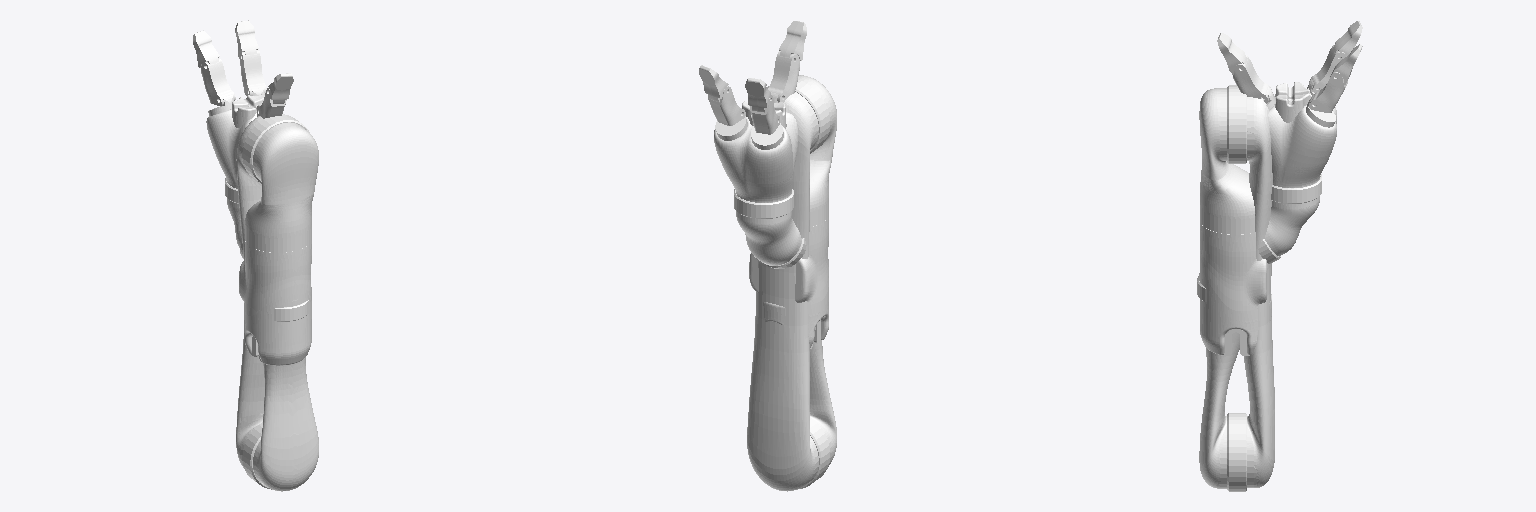
--- What the picture shows (computed from the rendered views, not written in the file) ---
Views: 3 orthographic renders of the robot side by side, from view 1: azimuth 30°, elevation 25°; view 2: azimuth 150°, elevation 25°; view 3: azimuth 270°, elevation 25°.
Model converted_robot with 41 links and 40 joints (12 revolute, 28 fixed), rooted at world, posed all joints at 0 but 2 set to mid-range because 0 is outside their limits (joint1 = 3.14, joint2 = 3.14).
Links seen in each view (by area): view 1: link1, link3, base_link, link2, link6, pinky_proximal, index_proximal, pinky_distal, index_distal, thumb_distal, link4; view 2: link2, link6, base_link, link5, link3, link1, thumb_proximal, index_proximal, thumb_distal, pinky_distal, pinky_proximal, index_distal; view 3: link2, base_link, link6, link1, link3, link5, thumb_proximal, index_proximal, thumb_distal, pinky_proximal, pinky_distal.
Boxes of the visible links, <box> form: link1: <box>245,122,318,252</box>; link3: <box>242,357,318,491</box>; base_link: <box>239,241,311,365</box>; link2: <box>236,114,309,467</box>; link6: <box>206,88,264,203</box>; pinky_proximal: <box>201,58,235,105</box>; index_proximal: <box>239,50,266,95</box>; pinky_distal: <box>193,30,219,67</box>; index_distal: <box>235,20,258,56</box>; thumb_distal: <box>268,73,293,103</box>; link4: <box>274,299,308,321</box>; link2: <box>747,80,829,491</box>; link6: <box>714,92,797,218</box>; base_link: <box>749,217,828,348</box>; link5: <box>736,211,806,268</box>; link3: <box>800,319,836,488</box>; link1: <box>798,75,836,226</box>; thumb_proximal: <box>768,51,799,102</box>; index_proximal: <box>708,86,745,125</box>; thumb_distal: <box>779,21,806,60</box>; pinky_distal: <box>745,78,770,112</box>; pinky_proximal: <box>750,95,779,134</box>; index_distal: <box>699,65,728,102</box>; link2: <box>1227,85,1274,487</box>; base_link: <box>1200,223,1271,355</box>; link6: <box>1266,79,1336,203</box>; link1: <box>1199,88,1254,234</box>; link3: <box>1199,330,1246,491</box>; link5: <box>1258,196,1319,263</box>; thumb_proximal: <box>1233,55,1271,103</box>; index_proximal: <box>1309,65,1347,112</box>; thumb_distal: <box>1217,33,1247,74</box>; pinky_proximal: <box>1309,45,1345,92</box>; pinky_distal: <box>1333,21,1362,56</box>.
Size in the robot's own frame: 0.0927 by 0.1877 by 0.5673 metres.
18 mesh visuals loaded from 10 distinct referenced files (10 binary STL).

The robot description file, URDF, robot "converted_robot":
<?xml version="1.0" ?>
<robot name="converted_robot">
   <link name="world">
      <inertial>
         <origin xyz="0.0 0.0 0.0" rpy="0.0 0.0 0.0"/>
         <mass value="0.0"/>
         <inertia ixx="0.0" iyy="0.0" izz="0.0" ixy="0" ixz="0" iyz="0"/>
      </inertial>
   </link>
   <link name="hand">
      <inertial>
         <origin xyz="0.0 0.0 0.0" rpy="0.0 0.0 0.0"/>
         <mass value="0.000384"/>
         <inertia ixx="6.656e-09" iyy="5.120000000000001e-09" izz="2.56e-09" ixy="0" ixz="0" iyz="0"/>
      </inertial>
   </link>
   <link name="world2hand_fixed">
      <inertial>
         <origin xyz="0.0 0.0 0.0" rpy="0.0 0.0 0.0"/>
         <mass value="0.001"/>
         <inertia ixx="1e-09" iyy="1e-09" izz="1e-09" ixy="0" ixz="0" iyz="0"/>
      </inertial>
   </link>
   <joint type="fixed" name="world2hand_fixed">
      <parent link="world"/>
      <child link="world2hand_fixed"/>
      <origin xyz="0.0 0.0 -0.15" rpy="0.0 0.0 0.0"/>
   </joint>
   <joint type="fixed" name="world2hand_fixed_offset">
      <parent link="world2hand_fixed"/>
      <child link="hand"/>
      <origin xyz="-0.0 -0.0 -0.0" rpy="0.0 0.0 0.0"/>
   </joint>
   <link name="target">
      <inertial>
         <origin xyz="0.0 0.0 0.0" rpy="0.0 0.0 0.0"/>
         <mass value="0.5235987755982989"/>
         <inertia ixx="0.000523598775598299" iyy="0.000523598775598299" izz="0.000523598775598299" ixy="0" ixz="0" iyz="0"/>
      </inertial>
   </link>
   <link name="world2target_fixed">
      <inertial>
         <origin xyz="0.0 0.0 0.0" rpy="0.0 0.0 0.0"/>
         <mass value="0.001"/>
         <inertia ixx="1e-09" iyy="1e-09" izz="1e-09" ixy="0" ixz="0" iyz="0"/>
      </inertial>
   </link>
   <joint type="fixed" name="world2target_fixed">
      <parent link="world"/>
      <child link="world2target_fixed"/>
      <origin xyz="0.0 0.0 -0.15" rpy="0.0 0.0 0.0"/>
   </joint>
   <joint type="fixed" name="world2target_fixed_offset">
      <parent link="world2target_fixed"/>
      <child link="target"/>
      <origin xyz="-0.0 -0.0 -0.0" rpy="0.0 0.0 0.0"/>
   </joint>
   <link name="target_orientation">
      <inertial>
         <origin xyz="0.0 0.0 0.0" rpy="0.0 0.0 0.0"/>
         <mass value="0.384"/>
         <inertia ixx="0.0006656" iyy="0.000512" izz="0.000256" ixy="0" ixz="0" iyz="0"/>
      </inertial>
   </link>
   <link name="world2target_orientation_fixed">
      <inertial>
         <origin xyz="0.0 0.0 0.0" rpy="0.0 0.0 0.0"/>
         <mass value="0.001"/>
         <inertia ixx="1e-09" iyy="1e-09" izz="1e-09" ixy="0" ixz="0" iyz="0"/>
      </inertial>
   </link>
   <joint type="fixed" name="world2target_orientation_fixed">
      <parent link="world"/>
      <child link="world2target_orientation_fixed"/>
      <origin xyz="0.0 0.0 -0.15" rpy="0.0 0.0 0.0"/>
   </joint>
   <joint type="fixed" name="world2target_orientation_fixed_offset">
      <parent link="world2target_orientation_fixed"/>
      <child link="target_orientation"/>
      <origin xyz="-0.0 -0.0 -0.0" rpy="0.0 0.0 0.0"/>
   </joint>
   <link name="path_planner">
      <inertial>
         <origin xyz="0.0 0.0 0.0" rpy="0.0 0.0 0.0"/>
         <mass value="0.5235987755982989"/>
         <inertia ixx="0.000523598775598299" iyy="0.000523598775598299" izz="0.000523598775598299" ixy="0" ixz="0" iyz="0"/>
      </inertial>
   </link>
   <link name="world2path_planner_fixed">
      <inertial>
         <origin xyz="0.0 0.0 0.0" rpy="0.0 0.0 0.0"/>
         <mass value="0.001"/>
         <inertia ixx="1e-09" iyy="1e-09" izz="1e-09" ixy="0" ixz="0" iyz="0"/>
      </inertial>
   </link>
   <joint type="fixed" name="world2path_planner_fixed">
      <parent link="world"/>
      <child link="world2path_planner_fixed"/>
      <origin xyz="0.0 0.0 -0.15" rpy="0.0 0.0 0.0"/>
   </joint>
   <joint type="fixed" name="world2path_planner_fixed_offset">
      <parent link="world2path_planner_fixed"/>
      <child link="path_planner"/>
      <origin xyz="-0.0 -0.0 -0.0" rpy="0.0 0.0 0.0"/>
   </joint>
   <link name="path_planner_orientation">
      <inertial>
         <origin xyz="0.0 0.0 0.0" rpy="0.0 0.0 0.0"/>
         <mass value="0.384"/>
         <inertia ixx="0.0006656" iyy="0.000512" izz="0.000256" ixy="0" ixz="0" iyz="0"/>
      </inertial>
   </link>
   <link name="world2path_planner_orientation_fixed">
      <inertial>
         <origin xyz="0.0 0.0 0.0" rpy="0.0 0.0 0.0"/>
         <mass value="0.001"/>
         <inertia ixx="1e-09" iyy="1e-09" izz="1e-09" ixy="0" ixz="0" iyz="0"/>
      </inertial>
   </link>
   <joint type="fixed" name="world2path_planner_orientation_fixed">
      <parent link="world"/>
      <child link="world2path_planner_orientation_fixed"/>
      <origin xyz="0.0 0.0 -0.15" rpy="0.0 0.0 0.0"/>
   </joint>
   <joint type="fixed" name="world2path_planner_orientation_fixed_offset">
      <parent link="world2path_planner_orientation_fixed"/>
      <child link="path_planner_orientation"/>
      <origin xyz="-0.0 -0.0 -0.0" rpy="0.0 0.0 0.0"/>
   </joint>
   <link name="obstacle">
      <inertial>
         <origin xyz="0.0 0.0 0.0" rpy="0.0 0.0 0.0"/>
         <mass value="0.5235987755982989"/>
         <inertia ixx="0.000523598775598299" iyy="0.000523598775598299" izz="0.000523598775598299" ixy="0" ixz="0" iyz="0"/>
      </inertial>
   </link>
   <link name="world2obstacle_fixed">
      <inertial>
         <origin xyz="0.0 0.0 0.0" rpy="0.0 0.0 0.0"/>
         <mass value="0.001"/>
         <inertia ixx="1e-09" iyy="1e-09" izz="1e-09" ixy="0" ixz="0" iyz="0"/>
      </inertial>
   </link>
   <joint type="fixed" name="world2obstacle_fixed">
      <parent link="world"/>
      <child link="world2obstacle_fixed"/>
      <origin xyz="0.0 0.0 -0.15" rpy="0.0 0.0 0.0"/>
   </joint>
   <joint type="fixed" name="world2obstacle_fixed_offset">
      <parent link="world2obstacle_fixed"/>
      <child link="obstacle"/>
      <origin xyz="-0.0 -0.0 -0.0" rpy="0.0 0.0 0.0"/>
   </joint>
   <link name="base_link">
      <inertial>
         <origin xyz="0.0 0.0 0.1255" rpy="0.0 0.0 0.0"/>
         <mass value="1.226"/>
         <inertia ixx="0.25" iyy="0.25" izz="0.25" ixy="0" ixz="0" iyz="0"/>
      </inertial>
      <visual name="link0">
         <origin xyz="9.133796677977069e-08 -0.0006027466695449019 0.08201283482199326" rpy="0.0007096602867197044 0.02054249345304937 1.605570611957459"/>
         <geometry>
            <mesh filename="converted_link0.stl"/>
         </geometry>
         <material name="white"/>
      </visual>
   </link>
   <link name="world2base_link_fixed">
      <inertial>
         <origin xyz="0.0 0.0 0.0" rpy="0.0 0.0 0.0"/>
         <mass value="0.001"/>
         <inertia ixx="1e-09" iyy="1e-09" izz="1e-09" ixy="0" ixz="0" iyz="0"/>
      </inertial>
   </link>
   <joint type="fixed" name="world2base_link_fixed">
      <parent link="world"/>
      <child link="world2base_link_fixed"/>
      <origin xyz="0.0 0.0 0.0" rpy="0.0 0.0 0.0"/>
   </joint>
   <joint type="fixed" name="world2base_link_fixed_offset">
      <parent link="world2base_link_fixed"/>
      <child link="base_link"/>
      <origin xyz="-0.0 -0.0 -0.0" rpy="0.0 0.0 0.0"/>
   </joint>
   <link name="link1">
      <inertial>
         <origin xyz="-4.2e-05 -0.001285 0.112784" rpy="0.0 0.0 0.0"/>
         <mass value="0.754"/>
         <inertia ixx="0.3" iyy="0.3" izz="0.3" ixy="0" ixz="0" iyz="0"/>
      </inertial>
      <visual name="link1">
         <origin xyz="-0.0001063410689003693 -0.010651450488938705 0.06674279663789036" rpy="3.139976019070814 -0.17855387401249323 1.5710248247573295"/>
         <geometry>
            <mesh filename="converted_link1.stl"/>
         </geometry>
         <material name="white"/>
      </visual>
   </link>
   <link name="joint0">
      <inertial>
         <origin xyz="0.0 0.0 0.0" rpy="0.0 0.0 0.0"/>
         <mass value="0.001"/>
         <inertia ixx="1e-09" iyy="1e-09" izz="1e-09" ixy="0" ixz="0" iyz="0"/>
      </inertial>
   </link>
   <joint type="revolute" name="joint0">
      <parent link="base_link"/>
      <child link="joint0"/>
      <origin xyz="0.0 0.0 0.157" rpy="0.0 0.0 0.0"/>
      <axis xyz="0.0 0.0 -1.0"/>
      <limit lower="0.0" upper="0.0" effort="100" velocity="100"/>
   </joint>
   <joint type="fixed" name="joint0_offset">
      <parent link="joint0"/>
      <child link="link1"/>
      <origin xyz="-0.0 -0.0 -0.0" rpy="0.0 0.0 0.0"/>
   </joint>
   <link name="link2">
      <inertial>
         <origin xyz="1.4e-05 0.009353 0.329006" rpy="0.0 0.0 0.0"/>
         <mass value="1.01"/>
         <inertia ixx="0.3" iyy="0.3" izz="0.3" ixy="0" ixz="0" iyz="0"/>
      </inertial>
      <visual name="link2">
         <origin xyz="0.0003269774984646708 0.020312319320206877 0.20497573696235669" rpy="-0.0015883560313731948 -0.0007988185518152946 -1.570806913124902"/>
         <geometry>
            <mesh filename="converted_link2.stl"/>
         </geometry>
         <material name="white"/>
      </visual>
      <visual name="ring_big">
         <origin xyz="-1.7123715495059167e-11 -4.805105449413863e-10 2.7067964741577194e-10" rpy="-1.5707963267948966 -0.0007963267948964958 -1.5707963267948966"/>
         <geometry>
            <mesh filename="converted_ring_big.stl"/>
         </geometry>
         <material name="white"/>
      </visual>
   </link>
   <link name="joint1">
      <inertial>
         <origin xyz="0.0 0.0 0.0" rpy="0.0 0.0 0.0"/>
         <mass value="0.001"/>
         <inertia ixx="1e-09" iyy="1e-09" izz="1e-09" ixy="0" ixz="0" iyz="0"/>
      </inertial>
   </link>
   <joint type="revolute" name="joint1">
      <parent link="link1"/>
      <child link="joint1"/>
      <origin xyz="0.0 0.0016 0.1186" rpy="0.0 0.0 0.0"/>
      <axis xyz="0.0 -1.0 0.0"/>
      <limit lower="0.872665" upper="5.41052" effort="100" velocity="100"/>
   </joint>
   <joint type="fixed" name="joint1_offset">
      <parent link="joint1"/>
      <child link="link2"/>
      <origin xyz="-0.0 -0.0 -0.0" rpy="0.0 0.0 0.0"/>
   </joint>
   <link name="link3">
      <inertial>
         <origin xyz="-3.9e-05 -0.018069 0.15327" rpy="0.0 0.0 0.0"/>
         <mass value="0.559"/>
         <inertia ixx="0.275" iyy="0.275" izz="0.275" ixy="0" ixz="0" iyz="0"/>
      </inertial>
      <visual name="link3">
         <origin xyz="-2.6840326337427422e-05 -0.017434501108884882 0.08293546007228784" rpy="-3.1415838661462416 0.041136356620258274 1.5693277577538458"/>
         <geometry>
            <mesh filename="converted_link3.stl"/>
         </geometry>
         <material name="white"/>
      </visual>
      <visual name="ring_big">
         <origin xyz="-1.7123715495059167e-11 -4.805105449413863e-10 2.7067964741577194e-10" rpy="-1.5707963267948966 -0.0007963267948964958 -1.5707963267948966"/>
         <geometry>
            <mesh filename="converted_ring_big.stl"/>
         </geometry>
         <material name="white"/>
      </visual>
   </link>
   <link name="joint2">
      <inertial>
         <origin xyz="0.0 0.0 0.0" rpy="0.0 0.0 0.0"/>
         <mass value="0.001"/>
         <inertia ixx="1e-09" iyy="1e-09" izz="1e-09" ixy="0" ixz="0" iyz="0"/>
      </inertial>
   </link>
   <joint type="revolute" name="joint2">
      <parent link="link2"/>
      <child link="joint2"/>
      <origin xyz="0.0 0.0 0.41" rpy="0.0 0.0 0.0"/>
      <axis xyz="0.0 1.0 0.0"/>
      <limit lower="0.331613" upper="5.95157" effort="100" velocity="100"/>
   </joint>
   <joint type="fixed" name="joint2_offset">
      <parent link="joint2"/>
      <child link="link3"/>
      <origin xyz="-0.0 -0.0 -0.0" rpy="0.0 0.0 0.0"/>
   </joint>
   <link name="link4">
      <inertial>
         <origin xyz="0.0 0.032302 0.059705" rpy="0.0 0.0 0.0"/>
         <mass value="0.417"/>
         <inertia ixx="0.175" iyy="0.175" izz="0.175" ixy="0" ixz="0" iyz="0"/>
      </inertial>
      <visual name="link4_5">
         <origin xyz="-1.166678302330102e-07 0.010098863452913599 0.036944562299561445" rpy="3.1415415682531878 -0.5252014023119236 -1.5707536986420412"/>
         <geometry>
            <mesh filename="converted_link4_5.stl"/>
         </geometry>
         <material name="white"/>
      </visual>
      <visual name="ring_small">
         <origin xyz="-4.196180586224414e-12 5.056845814393021e-12 -1.565377461032025e-12" rpy="1.5707963267948966 -1.5707963267948966 0.0"/>
         <geometry>
            <mesh filename="converted_ring_small.stl"/>
         </geometry>
         <material name="white"/>
      </visual>
   </link>
   <link name="joint3">
      <inertial>
         <origin xyz="0.0 0.0 0.0" rpy="0.0 0.0 0.0"/>
         <mass value="0.001"/>
         <inertia ixx="1e-09" iyy="1e-09" izz="1e-09" ixy="0" ixz="0" iyz="0"/>
      </inertial>
   </link>
   <joint type="revolute" name="joint3">
      <parent link="link3"/>
      <child link="joint3"/>
      <origin xyz="0.0 -0.0115 0.2072" rpy="0.0 0.0 0.0"/>
      <axis xyz="0.0 0.0 -1.0"/>
      <limit lower="0.0" upper="0.0" effort="100" velocity="100"/>
   </joint>
   <joint type="fixed" name="joint3_offset">
      <parent link="joint3"/>
      <child link="link4"/>
      <origin xyz="-0.0 -0.0 -0.0" rpy="0.0 0.0 0.0"/>
   </joint>
   <link name="link5">
      <inertial>
         <origin xyz="-0.0 0.035545 0.057833" rpy="0.0 0.0 0.0"/>
         <mass value="0.417"/>
         <inertia ixx="0.175" iyy="0.175" izz="0.175" ixy="0" ixz="0" iyz="0"/>
      </inertial>
      <visual name="link4_5">
         <origin xyz="-5.8748738792033485e-05 0.026988838765509126 0.027175114668303135" rpy="3.140664724414925 0.5235916505271576 1.5717584460605178"/>
         <geometry>
            <mesh filename="converted_link4_5.stl"/>
         </geometry>
         <material name="white"/>
      </visual>
      <visual name="ring_small">
         <origin xyz="-4.196180586224414e-12 1.1732698175821173e-12 -5.161931239488e-12" rpy="0.0 -0.5236963267948966 1.5707963267948966"/>
         <geometry>
            <mesh filename="converted_ring_small.stl"/>
         </geometry>
         <material name="white"/>
      </visual>
   </link>
   <link name="joint4">
      <inertial>
         <origin xyz="0.0 0.0 0.0" rpy="0.0 0.0 0.0"/>
         <mass value="0.001"/>
         <inertia ixx="1e-09" iyy="1e-09" izz="1e-09" ixy="0" ixz="0" iyz="0"/>
      </inertial>
   </link>
   <joint type="revolute" name="joint4">
      <parent link="link4"/>
      <child link="joint4"/>
      <origin xyz="0.0 0.037 0.0641" rpy="0.0 0.0 0.0"/>
      <axis xyz="0.0 -0.8654262854811262 -0.5010362705417047"/>
      <limit lower="0.0" upper="0.0" effort="100" velocity="100"/>
   </joint>
   <joint type="fixed" name="joint4_offset">
      <parent link="joint4"/>
      <child link="link5"/>
      <origin xyz="-0.0 -0.0 -0.0" rpy="0.0 0.0 0.0"/>
   </joint>
   <link name="link6">
      <inertial>
         <origin xyz="3e-05 -0.00684 0.08222" rpy="0.0 0.0 0.0"/>
         <mass value="0.727"/>
         <inertia ixx="0.025" iyy="0.025" izz="0.025" ixy="0" ixz="0" iyz="0"/>
      </inertial>
      <visual name="hand_3finger">
         <origin xyz="2.726445927349454e-05 0.004240514501973636 0.06093834663563374" rpy="3.041322787996892 0.003177578468926523 0.006403760104636946"/>
         <geometry>
            <mesh filename="converted_hand_3finger.stl"/>
         </geometry>
         <material name="white"/>
      </visual>
      <visual name="ring_small">
         <origin xyz="-4.196180586224414e-12 5.056845814393021e-12 -1.565377461032025e-12" rpy="1.5707963267948966 -1.5707963267948966 0.0"/>
         <geometry>
            <mesh filename="converted_ring_small.stl"/>
         </geometry>
         <material name="white"/>
      </visual>
   </link>
   <link name="joint5">
      <inertial>
         <origin xyz="0.0 0.0 0.0" rpy="0.0 0.0 0.0"/>
         <mass value="0.001"/>
         <inertia ixx="1e-09" iyy="1e-09" izz="1e-09" ixy="0" ixz="0" iyz="0"/>
      </inertial>
   </link>
   <joint type="revolute" name="joint5">
      <parent link="link5"/>
      <child link="joint5"/>
      <origin xyz="0.0 0.037 0.0641" rpy="0.0 0.0 0.0"/>
      <axis xyz="0.0 0.0 -1.0"/>
      <limit lower="0.0" upper="0.0" effort="100" velocity="100"/>
   </joint>
   <joint type="fixed" name="joint5_offset">
      <parent link="joint5"/>
      <child link="link6"/>
      <origin xyz="-0.0 -0.0 -0.0" rpy="0.0 0.0 0.0"/>
   </joint>
   <link name="EE">
      <inertial>
         <origin xyz="0.0 0.0 0.12" rpy="0.0 0.0 0.0"/>
         <mass value="0.0"/>
         <inertia ixx="0.0" iyy="0.0" izz="0.0" ixy="0" ixz="0" iyz="0"/>
      </inertial>
   </link>
   <link name="link62EE_fixed">
      <inertial>
         <origin xyz="0.0 0.0 0.0" rpy="0.0 0.0 0.0"/>
         <mass value="0.001"/>
         <inertia ixx="1e-09" iyy="1e-09" izz="1e-09" ixy="0" ixz="0" iyz="0"/>
      </inertial>
   </link>
   <joint type="fixed" name="link62EE_fixed">
      <parent link="link6"/>
      <child link="link62EE_fixed"/>
      <origin xyz="0.0 0.0 0.12" rpy="0.0 0.0 0.0"/>
   </joint>
   <joint type="fixed" name="link62EE_fixed_offset">
      <parent link="link62EE_fixed"/>
      <child link="EE"/>
      <origin xyz="-0.0 -0.0 -0.0" rpy="0.0 0.0 0.0"/>
   </joint>
   <link name="thumb_proximal">
      <inertial>
         <origin xyz="2.318676237413274e-06 -0.007901926331040997 0.020505126451577305" rpy="0.00013966961628275598 -0.00202429827569528 1.571786439865887"/>
         <mass value="0.025288554890960095"/>
         <inertia ixx="7.007347968068987e-06" iyy="6.9623425627500285e-06" izz="2.020629680612321e-06" ixy="0" ixz="0" iyz="0"/>
      </inertial>
      <visual name="finger_proximal">
         <origin xyz="2.318676237413274e-06 -0.007901926331040997 0.020505126451577305" rpy="0.00013966961628264496 -0.00202429827569528 1.5717864398658867"/>
         <geometry>
            <mesh filename="converted_finger_proximal.stl"/>
         </geometry>
         <material name="white"/>
      </visual>
   </link>
   <link name="joint_thumb">
      <inertial>
         <origin xyz="0.0 0.0 0.0" rpy="0.0 0.0 0.0"/>
         <mass value="0.001"/>
         <inertia ixx="1e-09" iyy="1e-09" izz="1e-09" ixy="0" ixz="0" iyz="0"/>
      </inertial>
   </link>
   <joint type="revolute" name="joint_thumb">
      <parent link="link6"/>
      <child link="joint_thumb"/>
      <origin xyz="0.002786 -0.03126 0.114668" rpy="0.5235989998300619 0.10674433886389845 -0.18352136513574274"/>
      <axis xyz="1.0 0.0 0.0"/>
      <limit lower="-0.2" upper="1.1" effort="100" velocity="100"/>
   </joint>
   <joint type="fixed" name="joint_thumb_offset">
      <parent link="joint_thumb"/>
      <child link="thumb_proximal"/>
      <origin xyz="-0.0 -0.0 -0.0" rpy="0.0 0.0 0.0"/>
   </joint>
   <link name="thumb_distal">
      <inertial>
         <origin xyz="1.2570621793692216e-06 -0.004534809576593107 0.01282817464890544" rpy="0.00010079309321564534 -0.0033680833931348797 1.5708043537043213"/>
         <mass value="0.013000795428535637"/>
         <inertia ixx="2.64897552626235e-06" iyy="2.4924103071714444e-06" izz="6.504963550225124e-07" ixy="0" ixz="0" iyz="0"/>
      </inertial>
      <visual name="finger_distal">
         <origin xyz="1.2570621793692216e-06 -0.004534809576593107 0.01282817464890544" rpy="0.00010079309321564534 -0.0033680833931348797 1.5708043537043208"/>
         <geometry>
            <mesh filename="converted_finger_distal.stl"/>
         </geometry>
         <material name="white"/>
      </visual>
   </link>
   <link name="joint_thumb_distal">
      <inertial>
         <origin xyz="0.0 0.0 0.0" rpy="0.0 0.0 0.0"/>
         <mass value="0.001"/>
         <inertia ixx="1e-09" iyy="1e-09" izz="1e-09" ixy="0" ixz="0" iyz="0"/>
      </inertial>
   </link>
   <joint type="revolute" name="joint_thumb_distal">
      <parent link="thumb_proximal"/>
      <child link="joint_thumb_distal"/>
      <origin xyz="0.0 -0.003 0.044" rpy="0.0 0.0 0.0"/>
      <axis xyz="-1.0 0.0 0.0"/>
      <limit lower="-0.4" upper="0.4" effort="100" velocity="100"/>
   </joint>
   <joint type="fixed" name="joint_thumb_distal_offset">
      <parent link="joint_thumb_distal"/>
      <child link="thumb_distal"/>
      <origin xyz="-0.0 -0.0 -0.0" rpy="0.0 0.0 0.0"/>
   </joint>
   <link name="index_proximal">
      <inertial>
         <origin xyz="-4.087219225441977e-06 0.007901942862374587 0.02050511980474731" rpy="0.0008396708733484637 -0.002024990858662701 -1.5714002845676145"/>
         <mass value="0.025288554890960095"/>
         <inertia ixx="7.007347968068987e-06" iyy="6.9623425627500285e-06" izz="2.020629680612321e-06" ixy="0" ixz="0" iyz="0"/>
      </inertial>
      <visual name="finger_proximal">
         <origin xyz="-4.087219225441977e-06 0.007901942862374587 0.02050511980474731" rpy="0.0008396708733484637 -0.002024990858662701 -1.5714002845676145"/>
         <geometry>
            <mesh filename="converted_finger_proximal.stl"/>
         </geometry>
         <material name="white"/>
      </visual>
   </link>
   <link name="joint_index">
      <inertial>
         <origin xyz="0.0 0.0 0.0" rpy="0.0 0.0 0.0"/>
         <mass value="0.001"/>
         <inertia ixx="1e-09" iyy="1e-09" izz="1e-09" ixy="0" ixz="0" iyz="0"/>
      </inertial>
   </link>
   <joint type="revolute" name="joint_index">
      <parent link="link6"/>
      <child link="joint_index"/>
      <origin xyz="0.022256 0.027073 0.114668" rpy="-0.5235990073775261 9.837689995961796e-09 -0.1846907358693892"/>
      <axis xyz="-1.0 0.0 0.0"/>
      <limit lower="-0.2" upper="1.1" effort="100" velocity="100"/>
   </joint>
   <joint type="fixed" name="joint_index_offset">
      <parent link="joint_index"/>
      <child link="index_proximal"/>
      <origin xyz="-0.0 -0.0 -0.0" rpy="0.0 0.0 0.0"/>
   </joint>
   <link name="index_distal">
      <inertial>
         <origin xyz="-3.0143948227316624e-06 0.004534820128862452 0.012828170626058646" rpy="0.0008007972285901666 -0.003368088186565865 -1.572383311145968"/>
         <mass value="0.013000795428535637"/>
         <inertia ixx="2.64897552626235e-06" iyy="2.4924103071714444e-06" izz="6.504963550225124e-07" ixy="0" ixz="0" iyz="0"/>
      </inertial>
      <visual name="finger_distal">
         <origin xyz="-3.0143948227316624e-06 0.004534820128862452 0.012828170626058646" rpy="0.0008007972285906106 -0.003368088186566087 -1.5723833111459689"/>
         <geometry>
            <mesh filename="converted_finger_distal.stl"/>
         </geometry>
         <material name="white"/>
      </visual>
   </link>
   <link name="joint_index_distal">
      <inertial>
         <origin xyz="0.0 0.0 0.0" rpy="0.0 0.0 0.0"/>
         <mass value="0.001"/>
         <inertia ixx="1e-09" iyy="1e-09" izz="1e-09" ixy="0" ixz="0" iyz="0"/>
      </inertial>
   </link>
   <joint type="revolute" name="joint_index_distal">
      <parent link="index_proximal"/>
      <child link="joint_index_distal"/>
      <origin xyz="0.0 0.003 0.044" rpy="0.0 0.0 0.0"/>
      <axis xyz="1.0 0.0 0.0"/>
      <limit lower="-0.4" upper="0.4" effort="100" velocity="100"/>
   </joint>
   <joint type="fixed" name="joint_index_distal_offset">
      <parent link="joint_index_distal"/>
      <child link="index_distal"/>
      <origin xyz="-0.0 -0.0 -0.0" rpy="0.0 0.0 0.0"/>
   </joint>
   <link name="pinky_proximal">
      <inertial>
         <origin xyz="-4.087219225441977e-06 0.007901942862374587 0.02050511980474731" rpy="0.0008396708733484637 -0.002024990858662701 -1.5714002845676145"/>
         <mass value="0.025288554890960095"/>
         <inertia ixx="7.007347968068987e-06" iyy="6.9623425627500285e-06" izz="2.020629680612321e-06" ixy="0" ixz="0" iyz="0"/>
      </inertial>
      <visual name="finger_proximal">
         <origin xyz="-4.087219225441977e-06 0.007901942862374587 0.02050511980474731" rpy="0.0008396708733484637 -0.002024990858662701 -1.5714002845676145"/>
         <geometry>
            <mesh filename="converted_finger_proximal.stl"/>
         </geometry>
         <material name="white"/>
      </visual>
   </link>
   <link name="joint_pinky">
      <inertial>
         <origin xyz="0.0 0.0 0.0" rpy="0.0 0.0 0.0"/>
         <mass value="0.001"/>
         <inertia ixx="1e-09" iyy="1e-09" izz="1e-09" ixy="0" ixz="0" iyz="0"/>
      </inertial>
   </link>
   <joint type="revolute" name="joint_pinky">
      <parent link="link6"/>
      <child link="joint_pinky"/>
      <origin xyz="-0.022256 0.027073 0.114816" rpy="-0.5235990073775261 -9.837689773917191e-09 0.1846907358693892"/>
      <axis xyz="-1.0 0.0 0.0"/>
      <limit lower="-0.2" upper="1.1" effort="100" velocity="100"/>
   </joint>
   <joint type="fixed" name="joint_pinky_offset">
      <parent link="joint_pinky"/>
      <child link="pinky_proximal"/>
      <origin xyz="-0.0 -0.0 -0.0" rpy="0.0 0.0 0.0"/>
   </joint>
   <link name="pinky_distal">
      <inertial>
         <origin xyz="-3.0143948227316624e-06 0.004534820128862452 0.012828170626058646" rpy="0.0008007972285901666 -0.003368088186565865 -1.572383311145968"/>
         <mass value="0.013000795428535637"/>
         <inertia ixx="2.64897552626235e-06" iyy="2.4924103071714444e-06" izz="6.504963550225124e-07" ixy="0" ixz="0" iyz="0"/>
      </inertial>
      <visual name="finger_distal">
         <origin xyz="-3.0143948227316624e-06 0.004534820128862452 0.012828170626058646" rpy="0.0008007972285906106 -0.003368088186566087 -1.5723833111459689"/>
         <geometry>
            <mesh filename="converted_finger_distal.stl"/>
         </geometry>
         <material name="white"/>
      </visual>
   </link>
   <link name="joint_pinky_distal">
      <inertial>
         <origin xyz="0.0 0.0 0.0" rpy="0.0 0.0 0.0"/>
         <mass value="0.001"/>
         <inertia ixx="1e-09" iyy="1e-09" izz="1e-09" ixy="0" ixz="0" iyz="0"/>
      </inertial>
   </link>
   <joint type="revolute" name="joint_pinky_distal">
      <parent link="pinky_proximal"/>
      <child link="joint_pinky_distal"/>
      <origin xyz="0.0 0.003 0.044" rpy="0.0 0.0 0.0"/>
      <axis xyz="1.0 0.0 0.0"/>
      <limit lower="-0.4" upper="0.4" effort="100" velocity="100"/>
   </joint>
   <joint type="fixed" name="joint_pinky_distal_offset">
      <parent link="joint_pinky_distal"/>
      <child link="pinky_distal"/>
      <origin xyz="-0.0 -0.0 -0.0" rpy="0.0 0.0 0.0"/>
   </joint>
   <material name="white">
      <color rgba="1 1 1 1"/>
   </material>
</robot>
